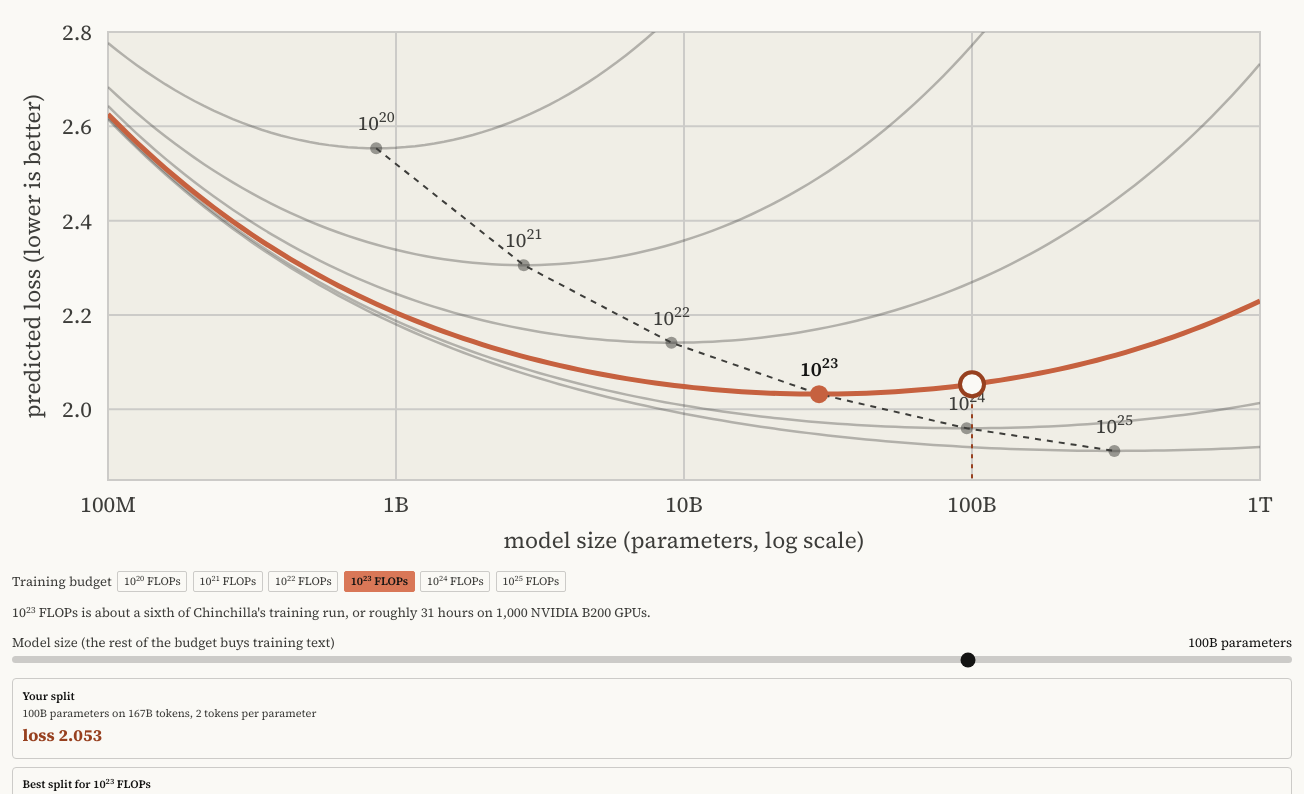
Test case: IsoComputeExplorer › plots the best loss at each budget as a tiny line, lighting the chosen budget
Click the radio button named "10 to the 20 FLOPs" at (152, 582), box [117, 571, 187, 592]
(page scrolled)
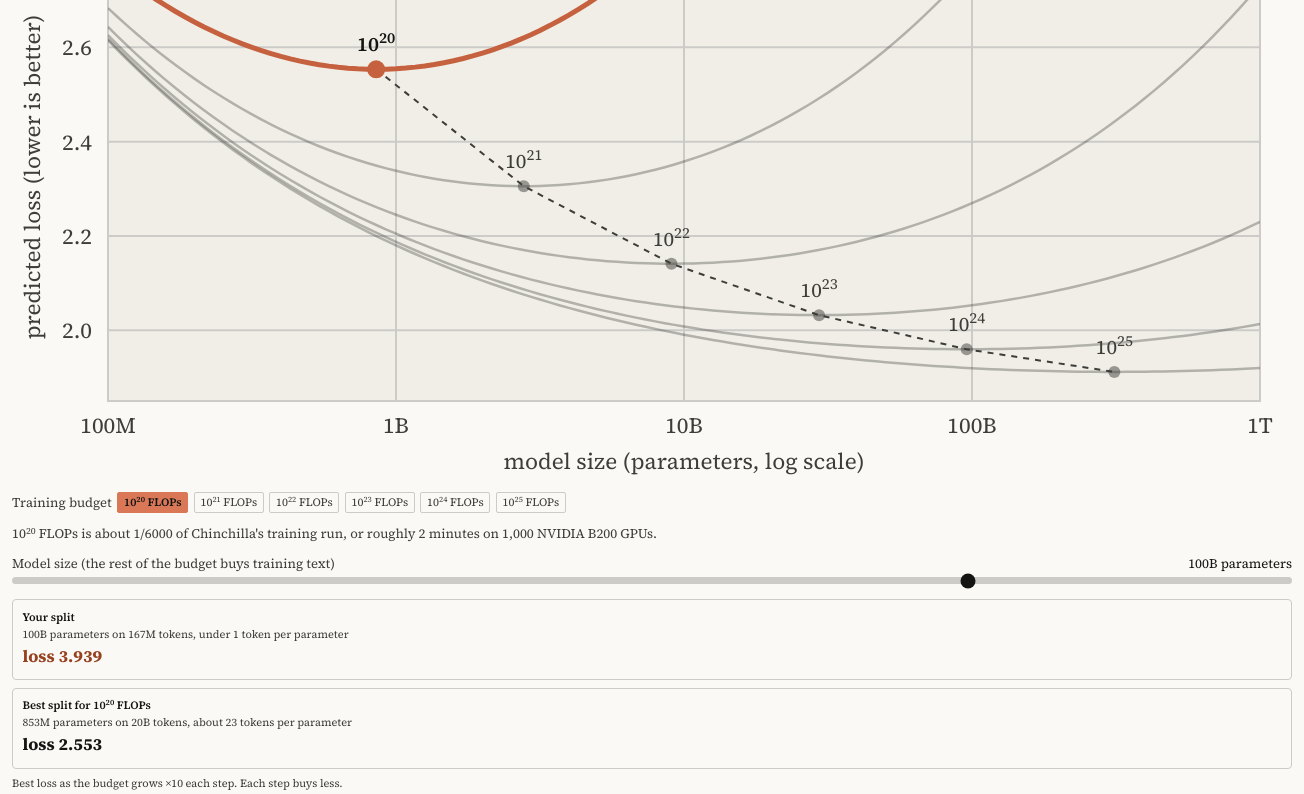
Check: the text "100B parameters on 167M tokens, under 1 token per parameter" is shown, box [22, 626, 349, 642]
